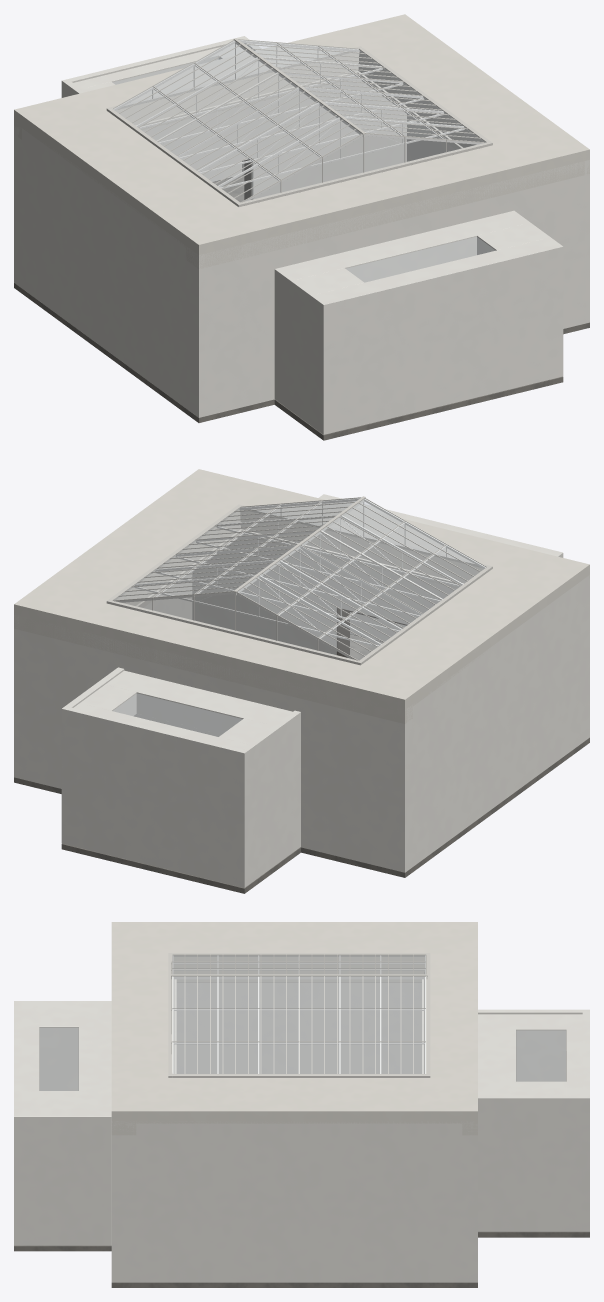
3 renders of one model, top to bottom at view 1: azimuth 30°, elevation 25°; view 2: azimuth 150°, elevation 25°; view 3: azimuth 270°, elevation 25°, orthographic.
Visible parts, largest first — view 1: Ceiling, Entrance_Vestibule, Skylight_Glass, Wall_Left, Wall_Entrance, Wall_Back, Skylight_Frame, Skylight_Supports, Floor, Ceiling_Beams, Secondary_Gallery, Wall_Right; view 2: Ceiling, Secondary_Gallery, Skylight_Glass, Wall_Back, Wall_Left, Skylight_Frame, Wall_Entrance, Skylight_Supports, Floor, Ceiling_Beams, Entrance_Vestibule, Wall_Right (+1 smaller); view 3: Wall_Right, Ceiling, Skylight_Glass, Secondary_Gallery, Entrance_Vestibule, Wall_Left, Skylight_Frame, Skylight_Supports, Wall_Entrance, Floor, Wall_Back.
Part boxes in pixels (<box>): Ceiling: <box>14,14,589,268</box>; Entrance_Vestibule: <box>274,210,563,434</box>; Skylight_Glass: <box>113,40,495,282</box>; Wall_Left: <box>14,127,204,417</box>; Wall_Entrance: <box>186,160,589,417</box>; Wall_Back: <box>14,79,406,287</box>; Skylight_Frame: <box>106,38,492,207</box>; Skylight_Supports: <box>113,40,483,201</box>; Floor: <box>14,175,589,440</box>; Ceiling_Beams: <box>139,60,464,188</box>; Secondary_Gallery: <box>61,36,261,181</box>; Wall_Right: <box>407,114,589,323</box>; Ceiling: <box>14,469,589,723</box>; Secondary_Gallery: <box>61,667,300,887</box>; Skylight_Glass: <box>113,498,485,736</box>; Wall_Back: <box>14,615,412,872</box>; Wall_Left: <box>399,575,589,872</box>; Skylight_Frame: <box>106,496,492,665</box>; Wall_Entrance: <box>192,537,589,738</box>; Skylight_Supports: <box>116,498,485,659</box>; Floor: <box>14,634,589,893</box>; Ceiling_Beams: <box>134,518,460,646</box>; Entrance_Vestibule: <box>318,494,563,641</box>; Wall_Right: <box>14,572,192,778</box>; Wall_Right: <box>111,1121,477,1282</box>; Ceiling: <box>111,922,477,1135</box>; Skylight_Glass: <box>40,955,565,1090</box>; Secondary_Gallery: <box>478,1009,589,1231</box>; Entrance_Vestibule: <box>14,1001,111,1245</box>; Wall_Left: <box>176,983,421,1073</box>; Skylight_Frame: <box>168,953,430,1077</box>; Skylight_Supports: <box>171,955,427,1073</box>; Wall_Entrance: <box>111,1121,135,1282</box>; Floor: <box>14,1232,589,1287</box>; Wall_Back: <box>462,1121,477,1282</box>.
Size of the model in its own units: 24.8 by 13.35 by 31.9.
9 materials, 3 textured.
